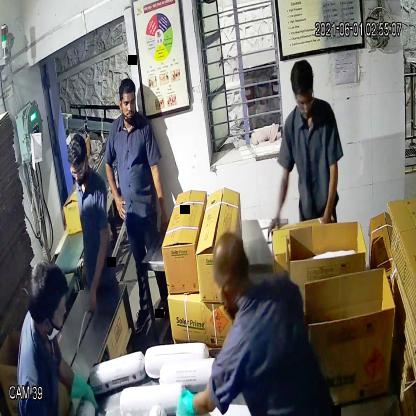goggles: (291, 89, 317, 114), (65, 158, 92, 182)
